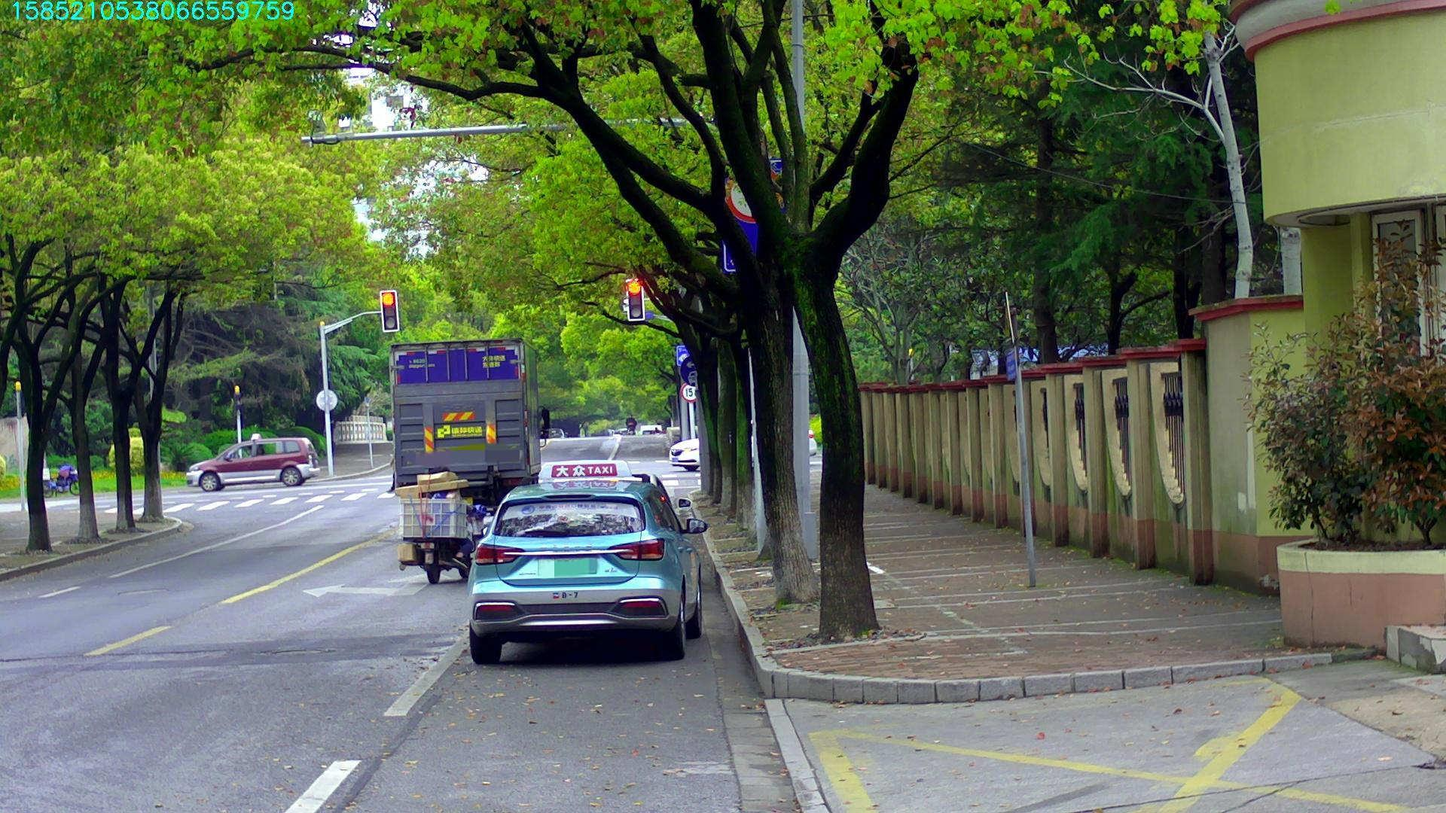red: (380, 290, 398, 330), (626, 279, 643, 319)
